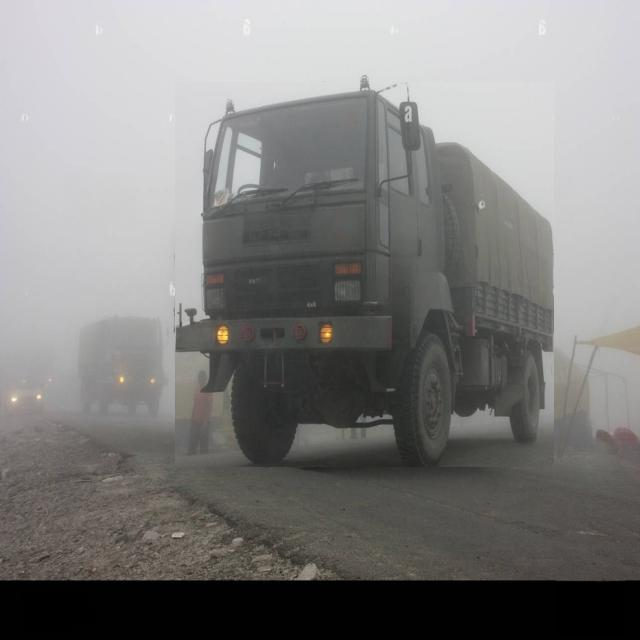truck: (175, 82, 554, 467)
